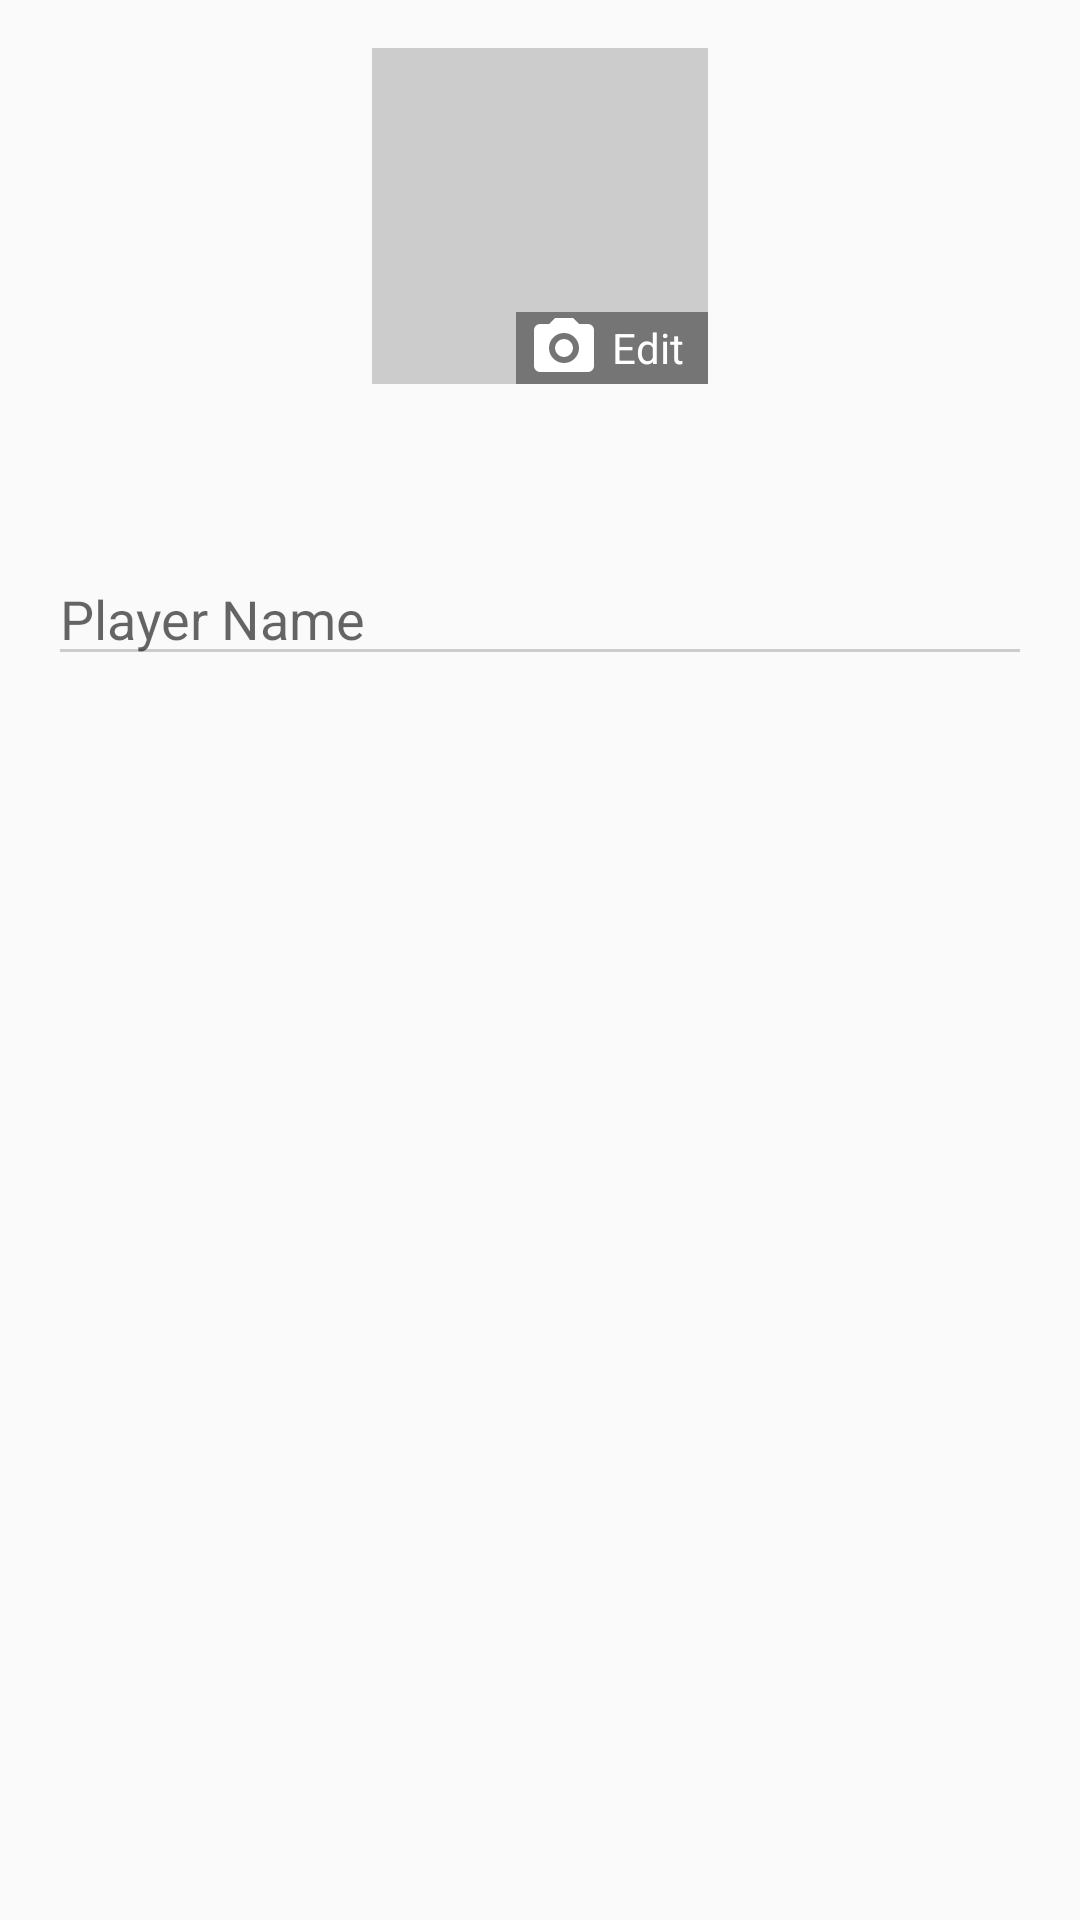

Point at icon controls on the screen. Image size 1080 x 1920, points as [x,y].
camera: [558,348]
